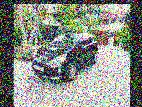car: (29, 29, 101, 88)
